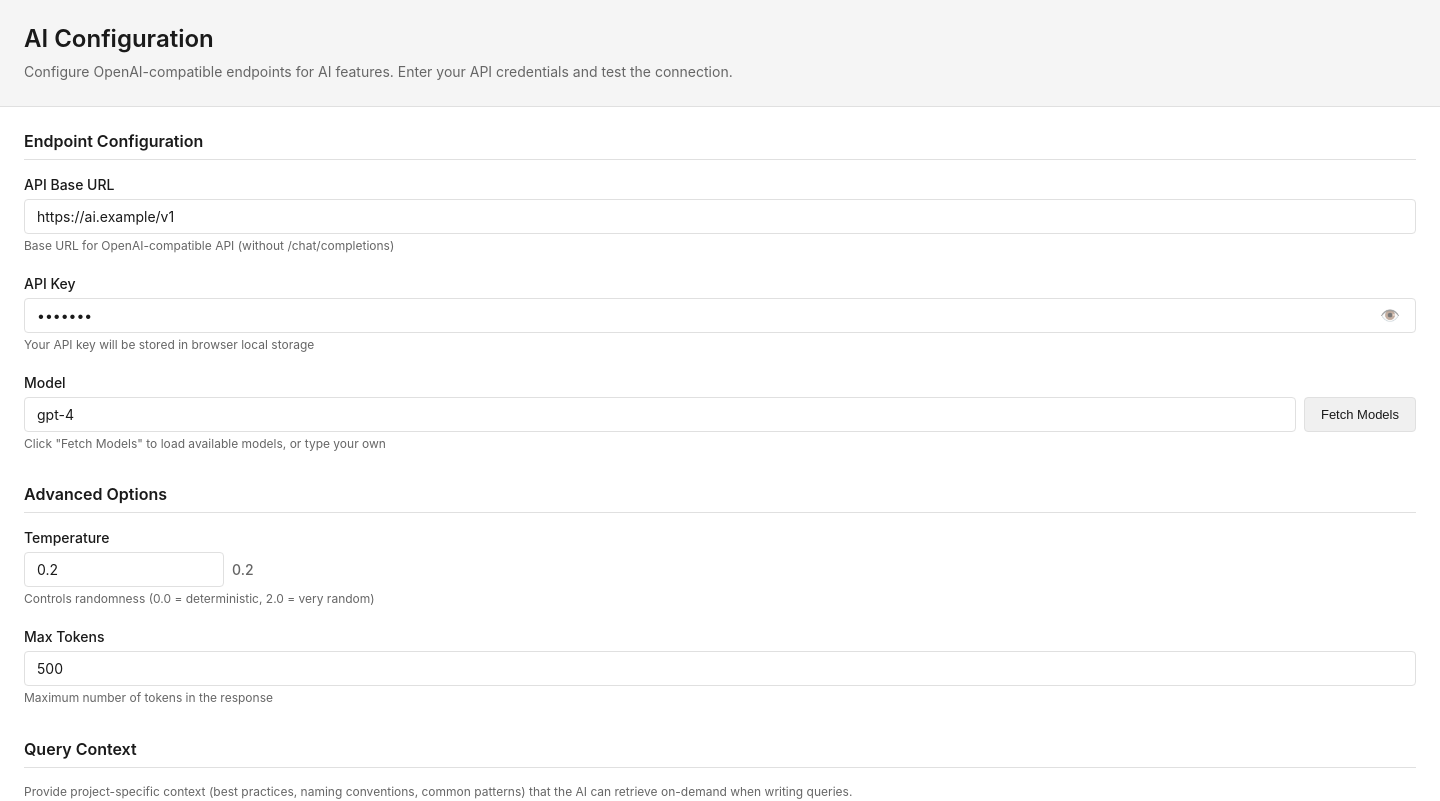
Test case: AISettingsView › fetches models into a select and warns if the current model is missing
Click the button with class "btn-fetch-models".
click(1360, 414)  # box top-left (1304, 397), bottom-right (1416, 432)
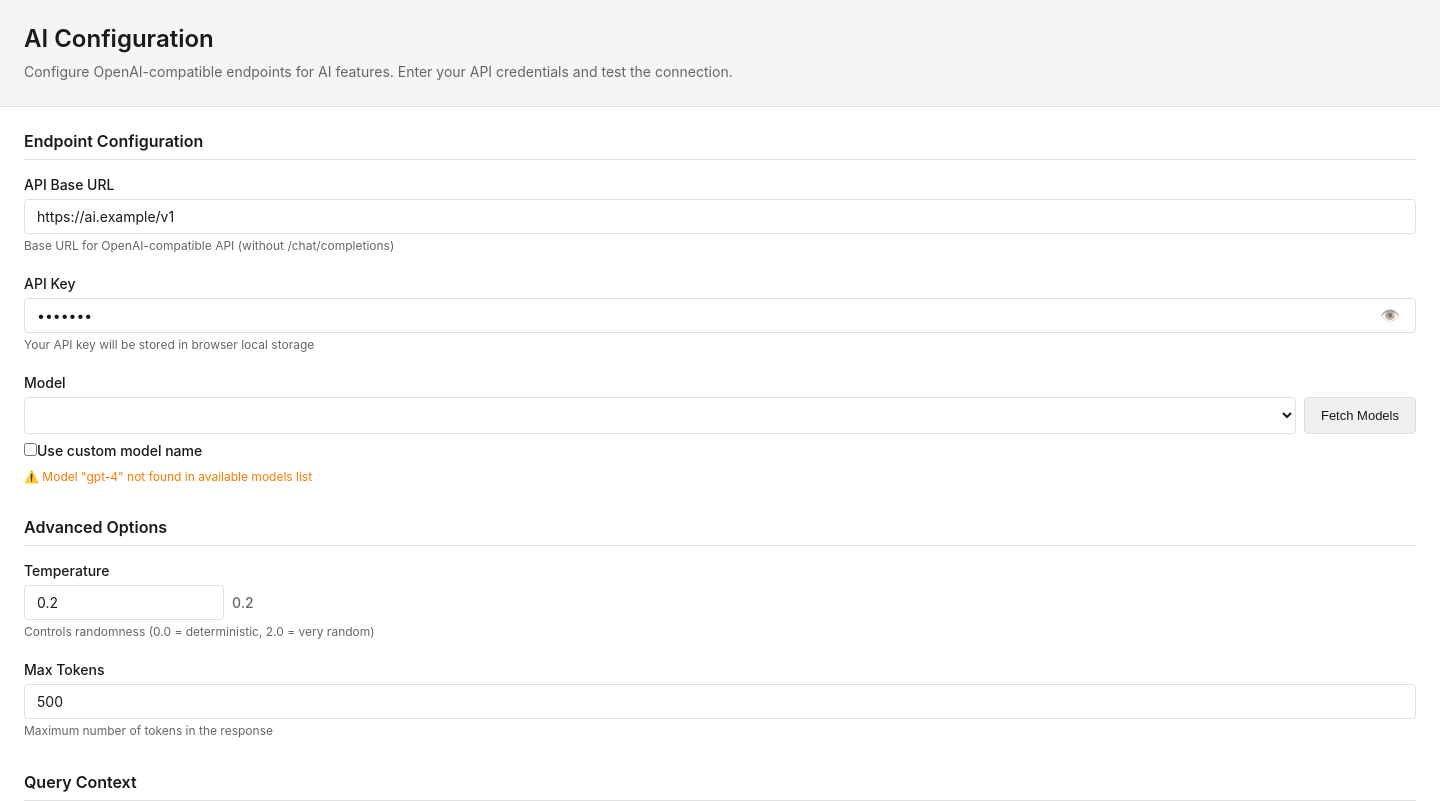
Expected: the dropdown with id "ai-model" is shown, top-left (24, 397), bottom-right (1296, 434)
Expected: the text with class "warning" shows "Model \"gpt-4\" not found", top-left (24, 469), bottom-right (312, 484)
// Switch to custom model entry
Click the checkbox labelled "Use custom model name".
click(30, 449)  # box top-left (24, 443), bottom-right (37, 456)
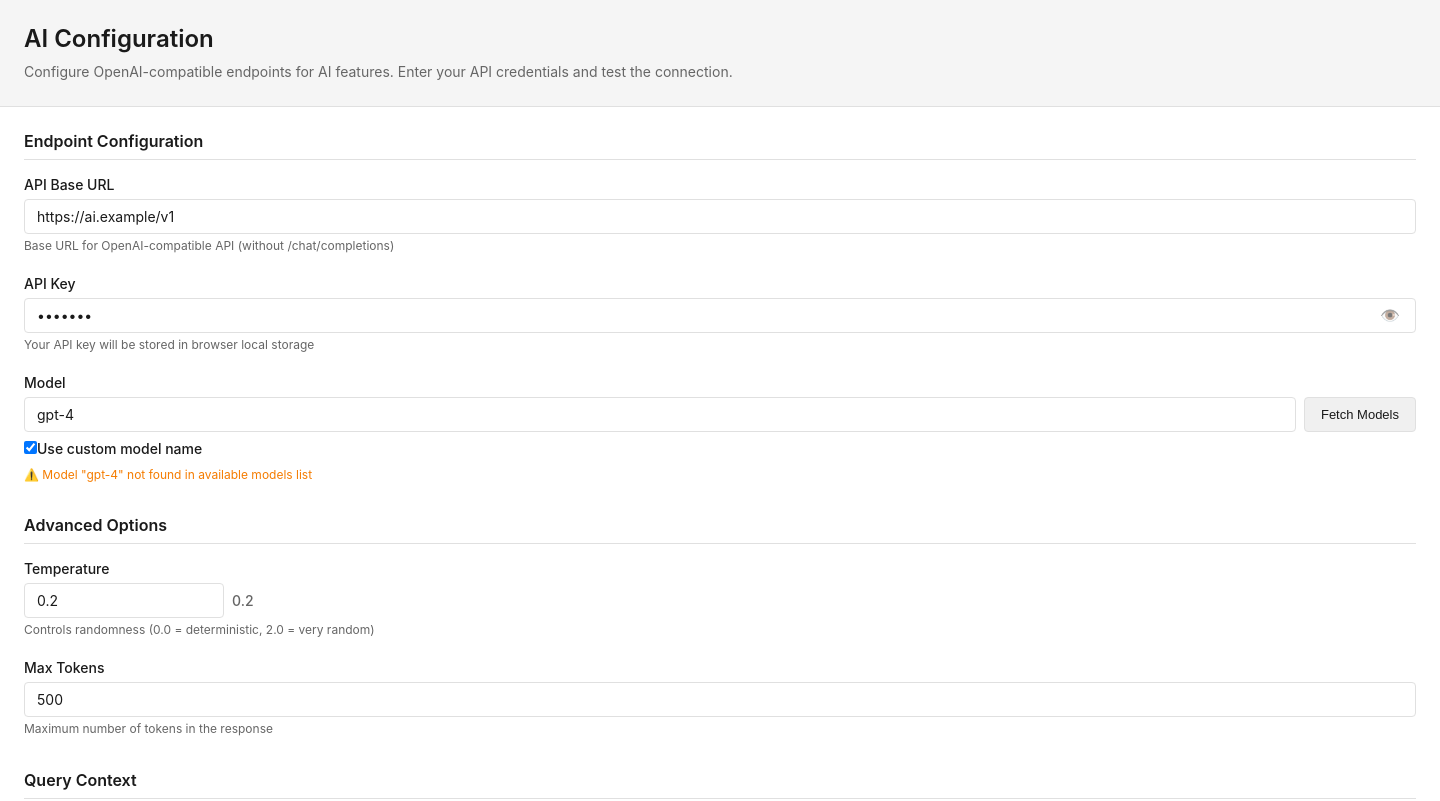
Expected: the field with id "ai-model" is shown, top-left (24, 397), bottom-right (1296, 432)
